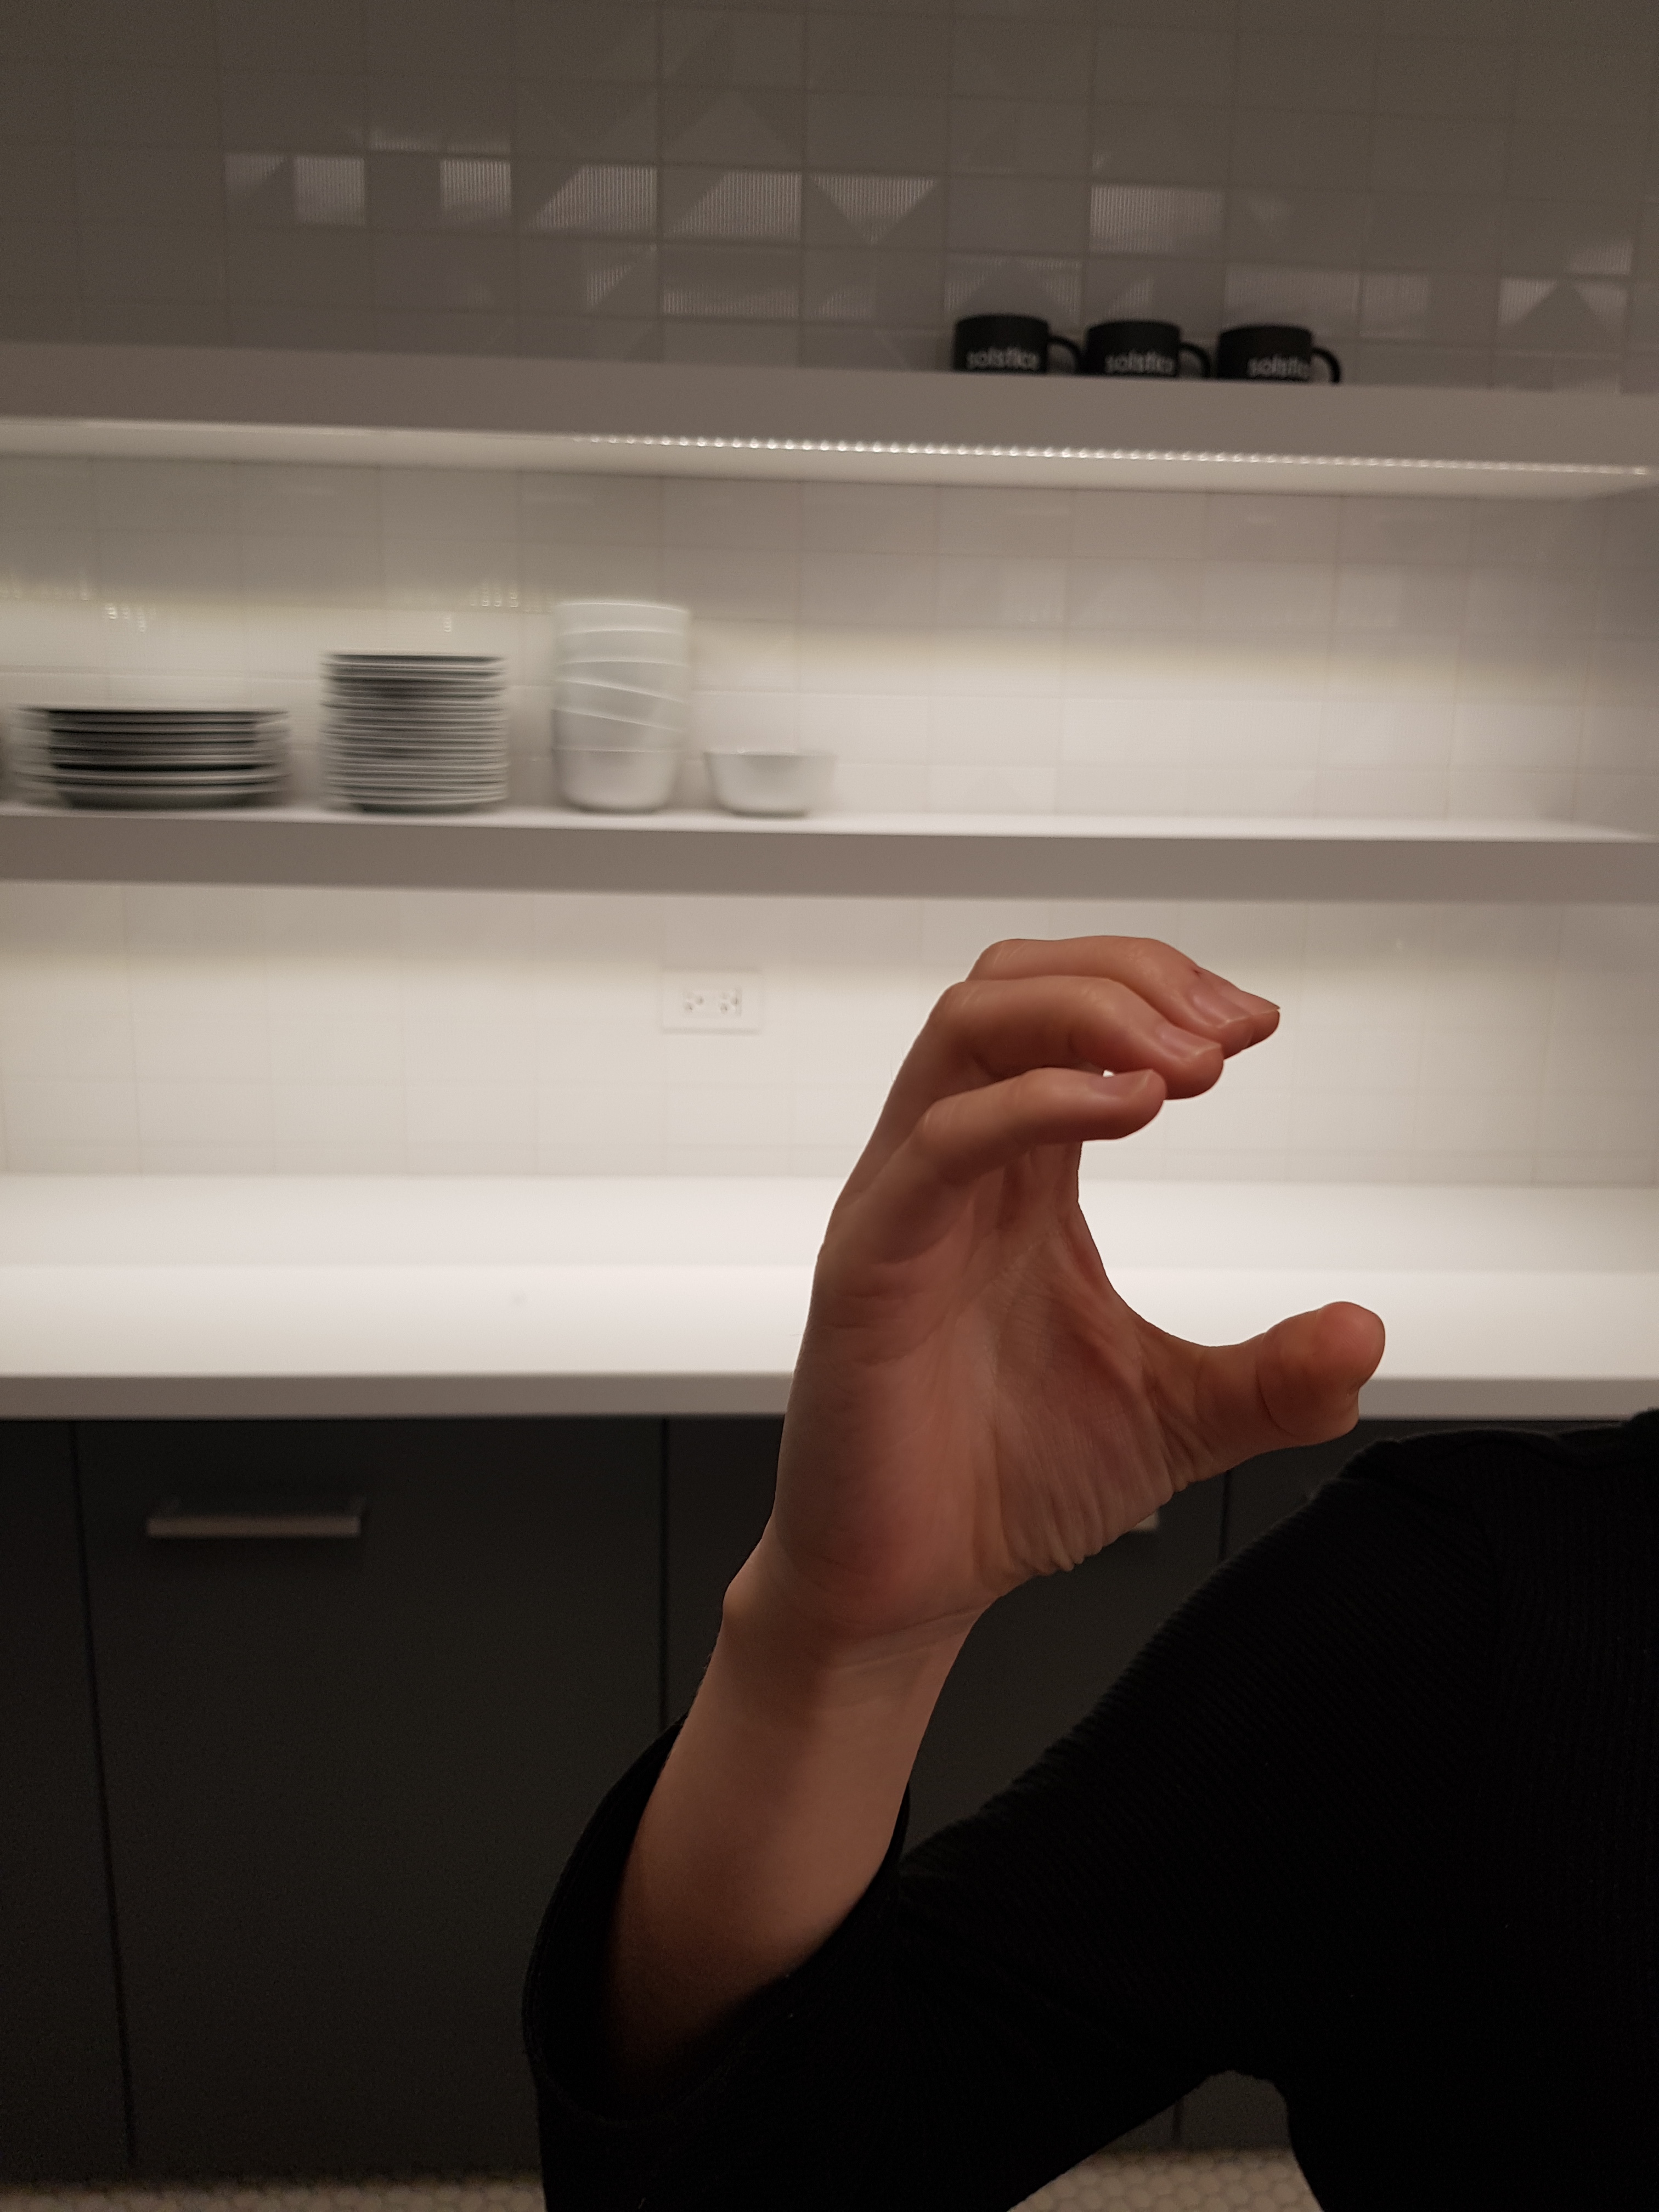c: (713, 880, 1432, 1656)
